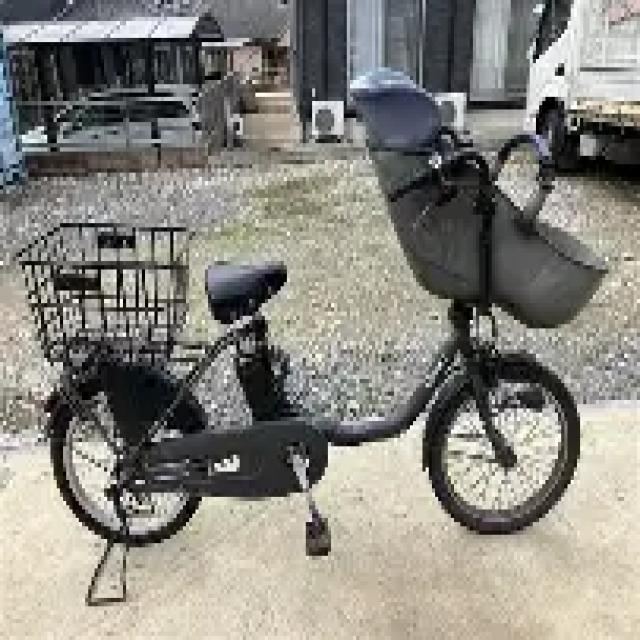basket: (14, 214, 194, 369)
battery: (232, 345, 290, 428)
childseat: (352, 72, 608, 330)
